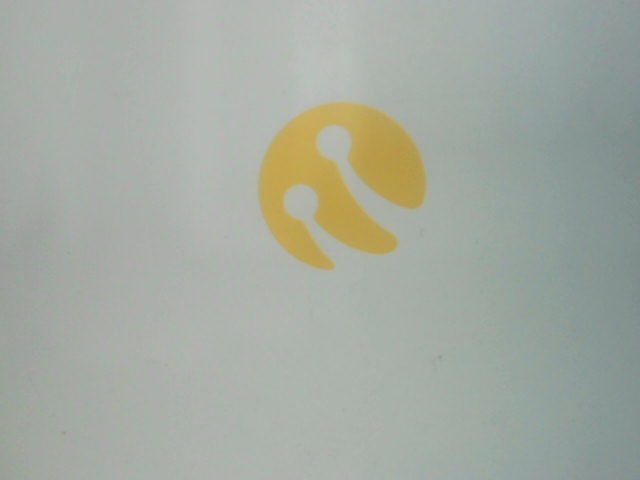AV_H3600Yellow: (243, 95, 431, 281)
